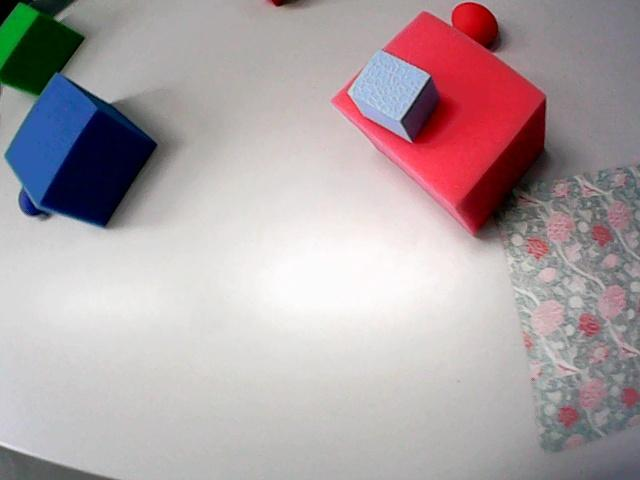blue_block: (6, 74, 155, 225), (348, 50, 438, 141)
red_block: (333, 12, 545, 233), (270, 0, 284, 5)
